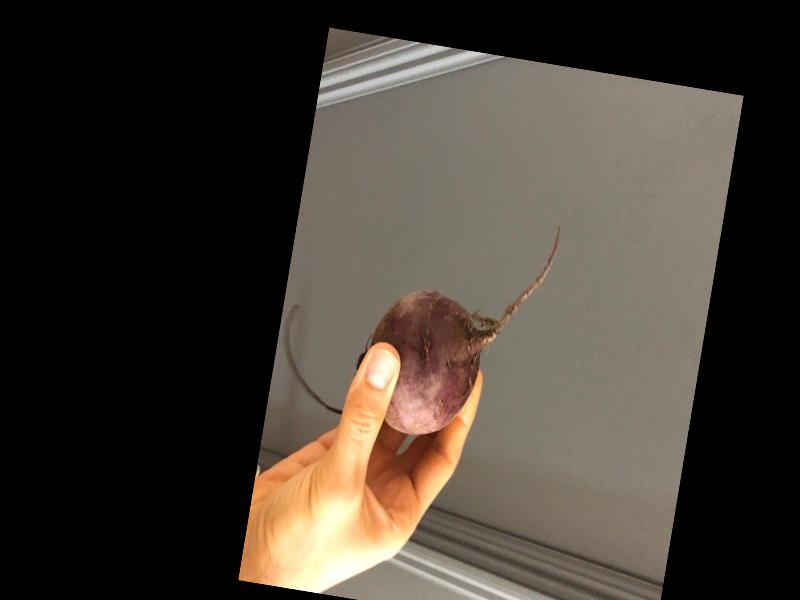Beet: (271, 181, 561, 452)
